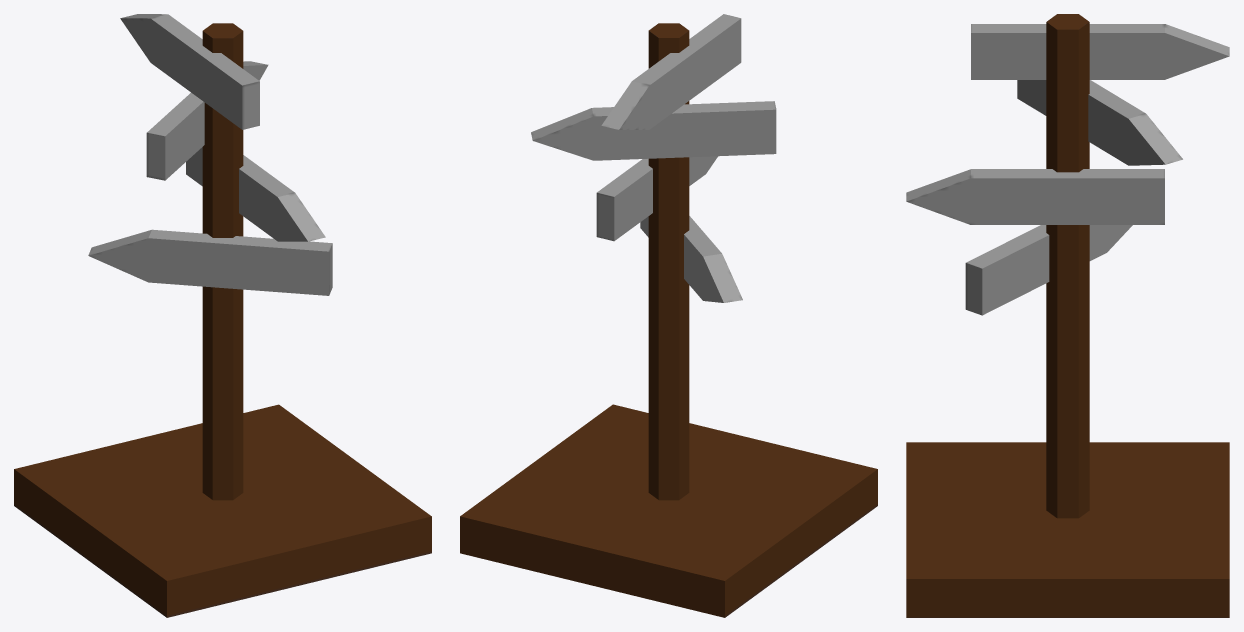
The model's file is post1.gltf.
3 views of the same model, side by side, from view 1: azimuth 30°, elevation 25°; view 2: azimuth 150°, elevation 25°; view 3: azimuth 270°, elevation 25° (orthographic). The views are drawn at different scales.
Visible parts, largest first — view 1: Cylinder; view 2: Cylinder; view 3: Cylinder.
Boxes of the visible parts, box(x1,y1,x2,y2) form: Cylinder: box(14, 14, 431, 617); Cylinder: box(460, 14, 877, 617); Cylinder: box(906, 14, 1229, 617).
Bounding box in the file's own units: 3 × 5.4 × 3.
1 material, 1 textured.
